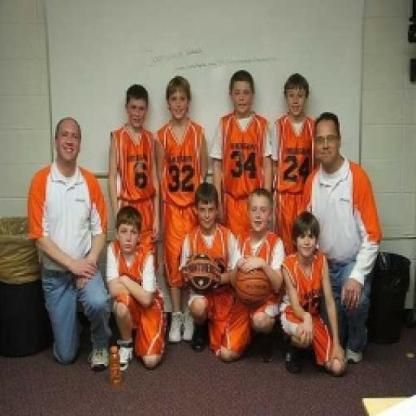basketball: (182, 253, 224, 296), (234, 265, 274, 306)
